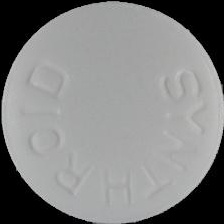68258-5948: (0, 0, 224, 224)
